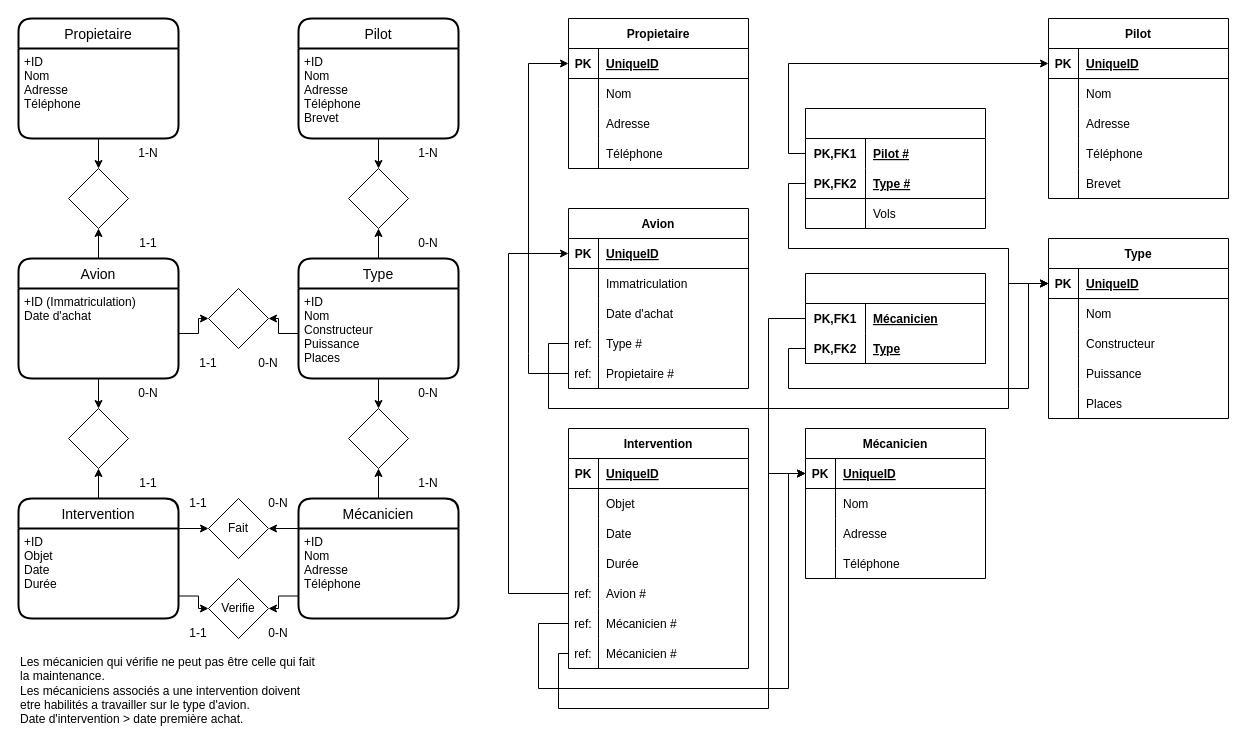
Image size: 1246x743. Some labels were removed from this diagram. Each missing label, with the box of its shape:
Appartient: (68, 168, 128, 228)
Est: (208, 288, 268, 348)
Habilité: (348, 408, 408, 468)
Maintient: (68, 408, 128, 468)
Mécanicien_Type: (804, 272, 986, 364)
Pilot_Type: (804, 108, 986, 228)
Pilote nombre de vols: (348, 168, 408, 228)
